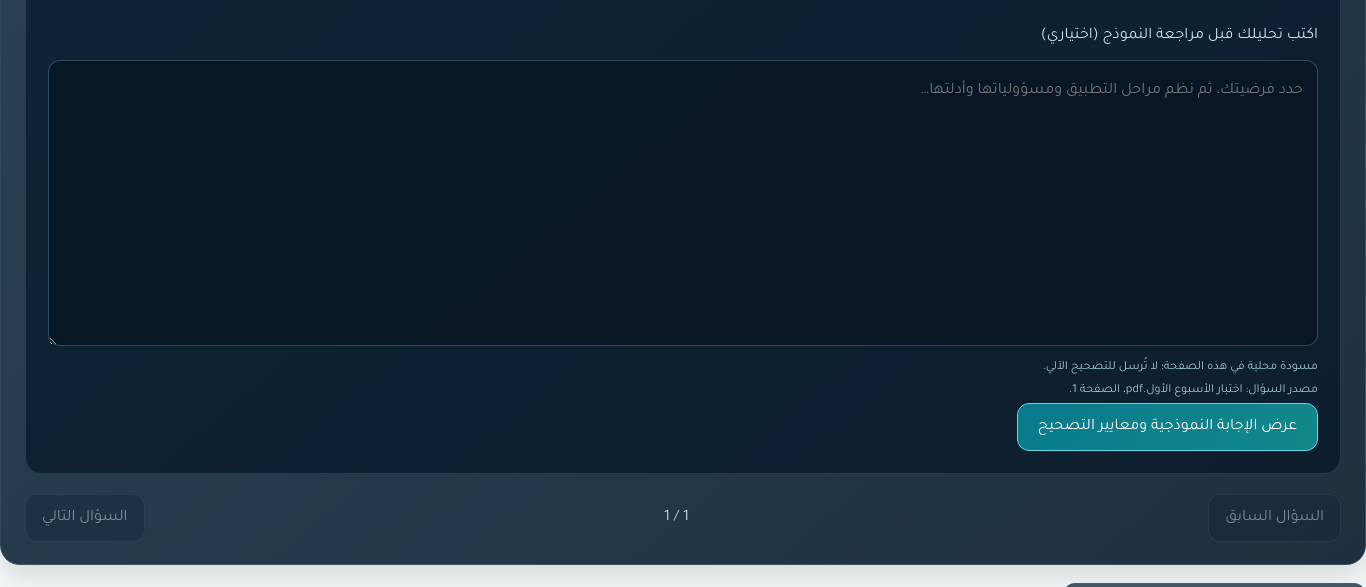
Scenario: keeps the open question independent and never transmits or auto-grades a draft
(page scrolled)
In the text box: [683, 203] box [48, 60, 1318, 346], type "مسودة المتدرب الخاصة"
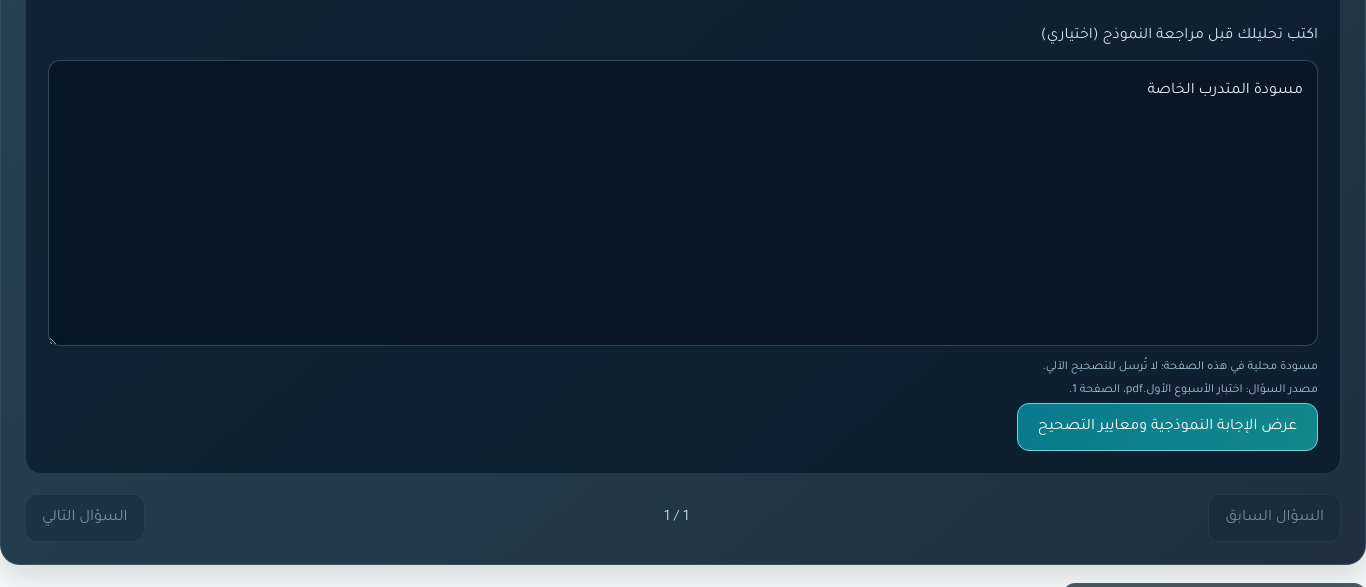
Click the button "عرض الإجابة النموذجية ومعايير التصحيح": [1167, 427] box [1017, 403, 1318, 451]
(page scrolled)
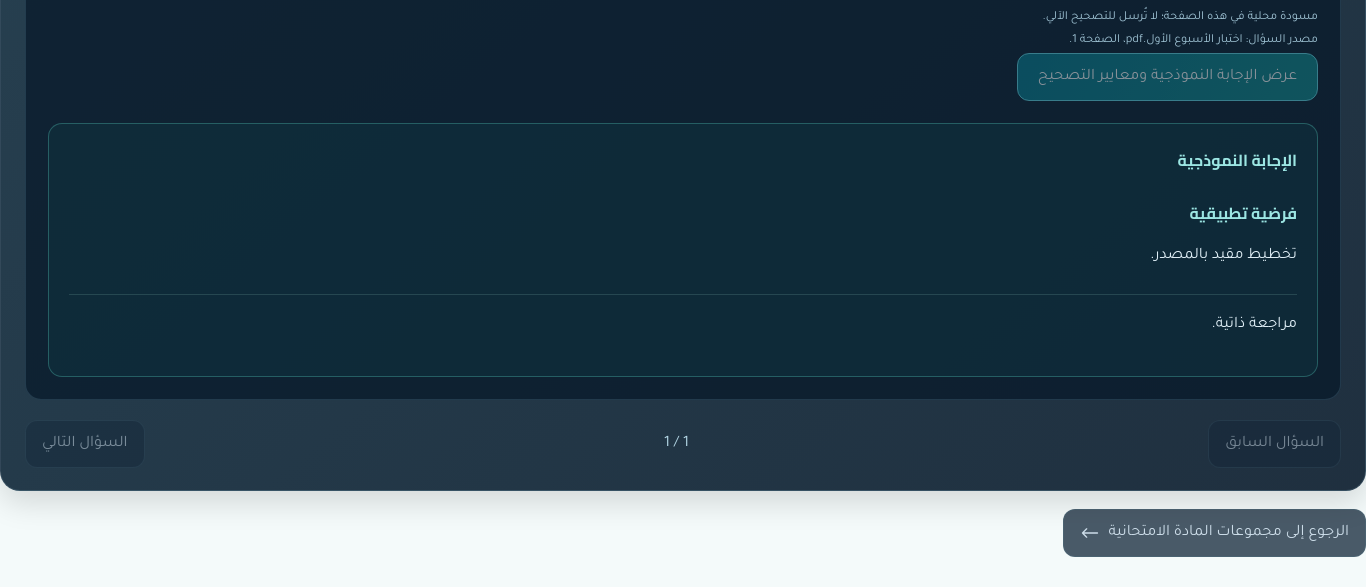
Check: the text "تخطيط مقيد بالمصدر." is shown, box [1150, 248, 1297, 264]
